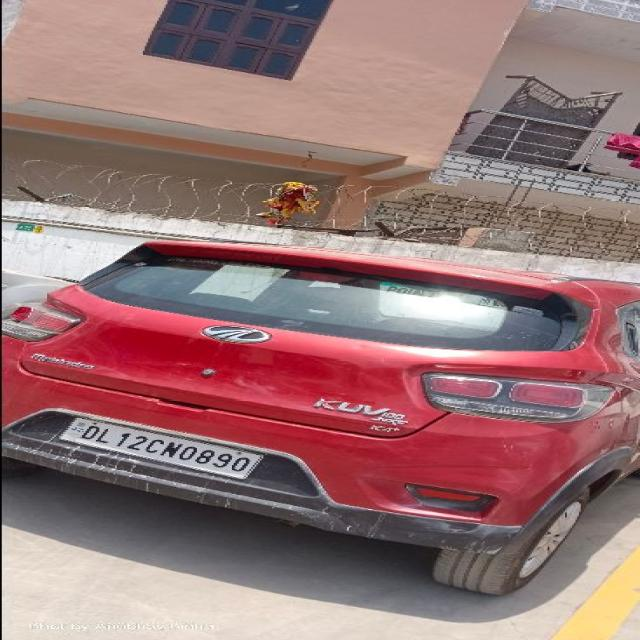license_plate: (56, 416, 265, 480)
